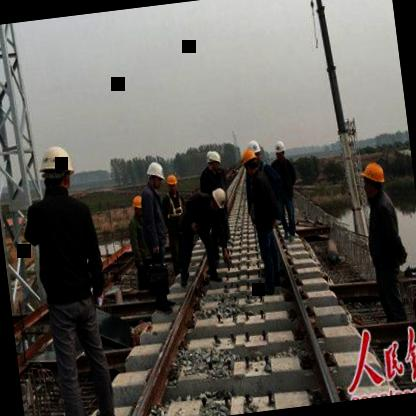helmet: (34, 139, 78, 198), (358, 157, 390, 202), (140, 156, 168, 193), (206, 185, 232, 213), (129, 191, 150, 220), (204, 146, 226, 173), (240, 148, 262, 175), (162, 170, 179, 194), (271, 138, 288, 162), (246, 138, 262, 160)
